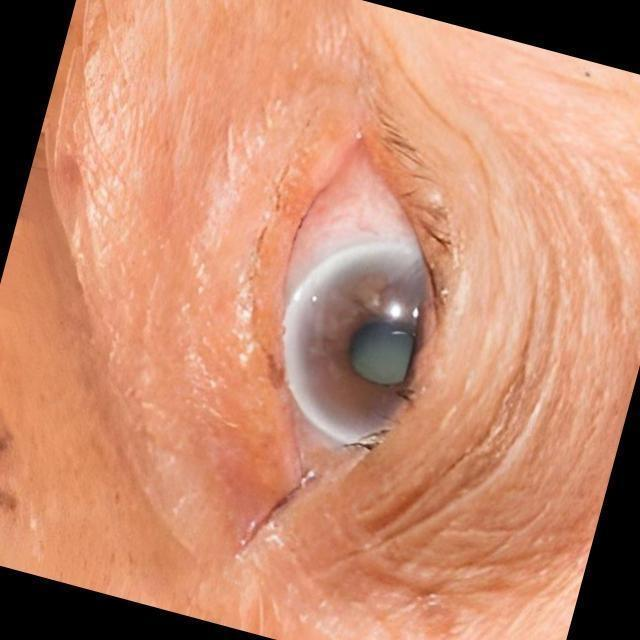Cataract: (240, 207, 496, 483)
